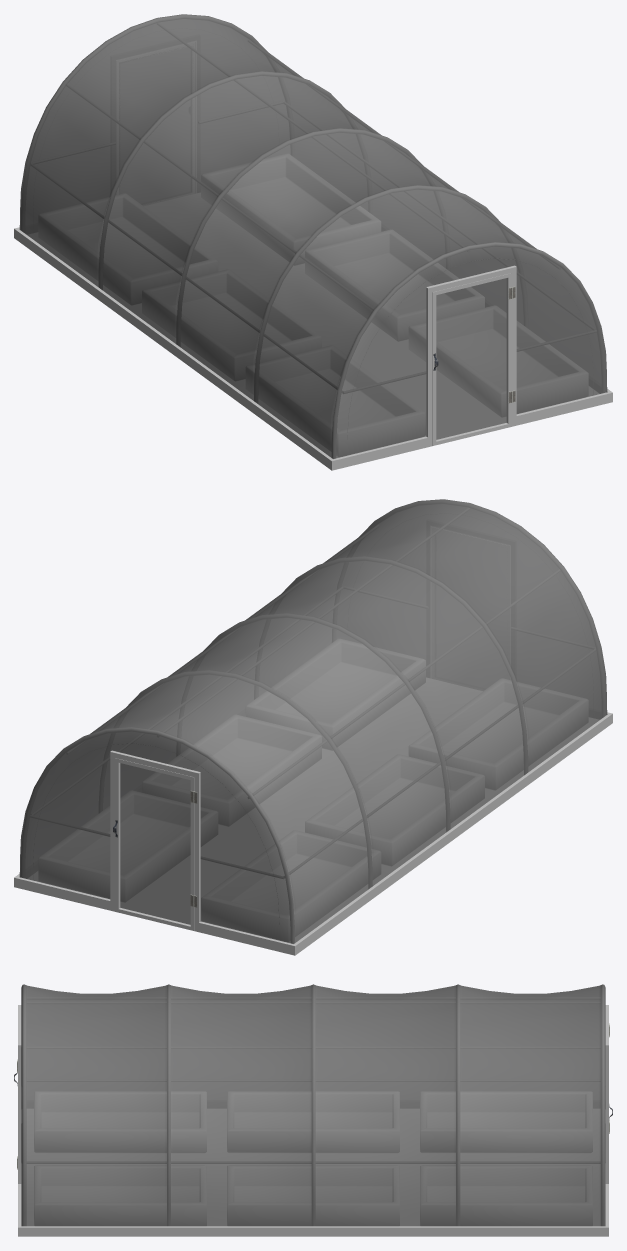
The model's file is green_house_1_5.fbx.
The picture shows the model from 3 angles, top to bottom: view 1: azimuth 30°, elevation 25°; view 2: azimuth 150°, elevation 25°; view 3: azimuth 270°, elevation 25°; orthographic projection. The views are drawn at different scales.
Visible parts, largest first — view 1: Circle.004, Cube.001, Cube.004, Cube.002, Circle.001, Circle.009, Circle.005, Circle.008, Circle.006, Circle.007; view 2: Circle.004, Cube.001, Cube.004, Cube.002, Circle.001, Circle.009, Circle.005, Circle.008, Circle.006, Circle.007; view 3: Circle.004, Cube.001, Cube.004, Cube.002, Circle.001, Circle.006, Circle.007, Circle.008, Circle.005, Circle.009.
Part boxes in pixels (bbox=[...]): Circle.004: bbox=[19, 14, 607, 458]; Cube.001: bbox=[39, 154, 587, 456]; Cube.004: bbox=[28, 193, 598, 457]; Cube.002: bbox=[14, 41, 612, 470]; Circle.001: bbox=[21, 15, 605, 458]; Circle.009: bbox=[66, 84, 378, 313]; Circle.005: bbox=[31, 164, 342, 391]; Circle.008: bbox=[157, 23, 469, 251]; Circle.006: bbox=[284, 102, 595, 329]; Circle.007: bbox=[248, 40, 560, 269]; Circle.004: bbox=[19, 499, 607, 943]; Cube.001: bbox=[39, 639, 587, 941]; Cube.004: bbox=[28, 678, 598, 942]; Cube.002: bbox=[14, 526, 612, 955]; Circle.001: bbox=[21, 500, 605, 943]; Circle.009: bbox=[248, 569, 559, 798]; Circle.005: bbox=[284, 649, 595, 876]; Circle.008: bbox=[157, 508, 469, 736]; Circle.006: bbox=[31, 587, 342, 814]; Circle.007: bbox=[66, 525, 378, 754]; Circle.004: bbox=[21, 984, 605, 1226]; Cube.001: bbox=[34, 1092, 592, 1225]; Cube.004: bbox=[27, 1109, 599, 1225]; Cube.002: bbox=[18, 1005, 608, 1236]; Circle.001: bbox=[23, 985, 604, 1225]; Circle.006: bbox=[27, 1162, 599, 1163]; Circle.007: bbox=[27, 1080, 599, 1081]; Circle.008: bbox=[27, 1002, 599, 1003]; Circle.005: bbox=[27, 1047, 599, 1048]; Circle.009: bbox=[27, 997, 599, 998].
Size of what is drawn, in the model's own units: 313 by 200 by 621.
